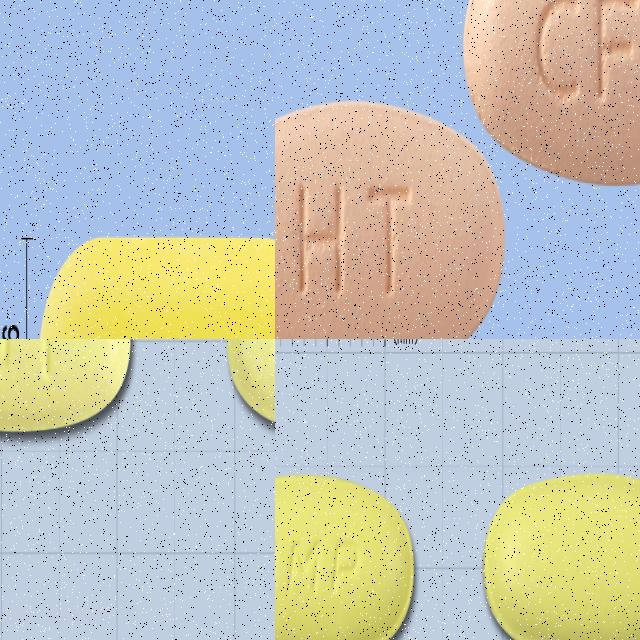Clacid: (35, 225, 275, 339)
Clari: (480, 468, 640, 640), (275, 468, 421, 640)
Claxin: (0, 339, 133, 438)
Crafroxin Tab: (275, 99, 505, 339), (462, 0, 640, 185)
